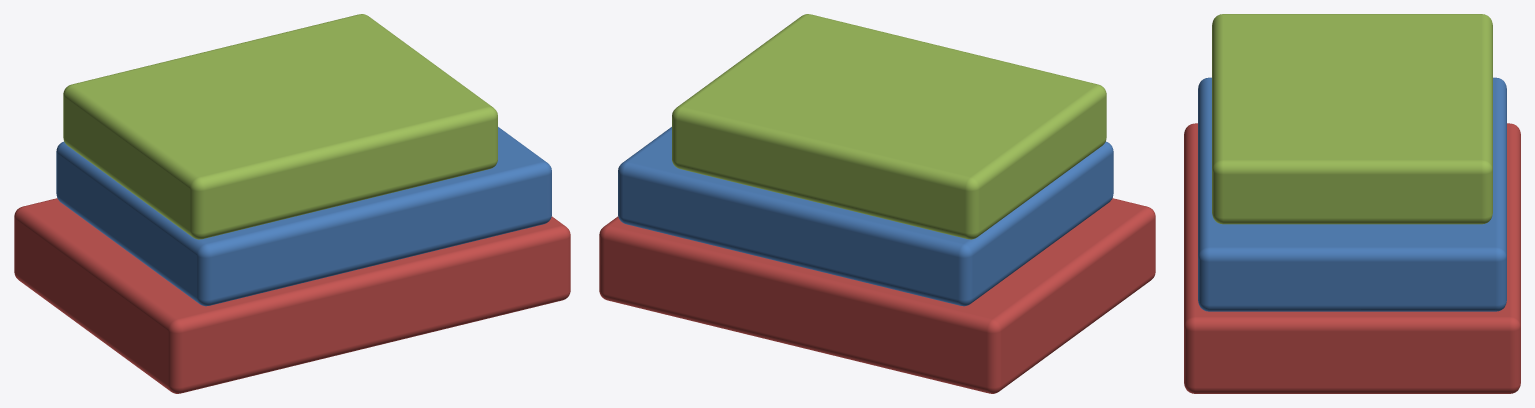
File: books.glb
3 views of the same model, side by side, from view 1: azimuth 30°, elevation 25°; view 2: azimuth 150°, elevation 25°; view 3: azimuth 270°, elevation 25° (orthographic). The views are drawn at different scales.
Visible parts, largest first — view 1: BookC, BookA, BookB; view 2: BookC, BookA, BookB; view 3: BookC, BookA, BookB.
Part boxes in pixels (left/top/right/bottom): BookC: left=63, top=14, right=497, bottom=239; BookA: left=14, top=198, right=570, bottom=393; BookB: left=56, top=127, right=551, bottom=306; BookC: left=672, top=14, right=1106, bottom=239; BookA: left=599, top=198, right=1155, bottom=393; BookB: left=618, top=127, right=1113, bottom=306; BookC: left=1212, top=14, right=1492, bottom=224; BookA: left=1184, top=123, right=1520, bottom=393; BookB: left=1198, top=77, right=1506, bottom=311.
Size of the model in its own units: 0.34 by 0.16 by 0.24.
